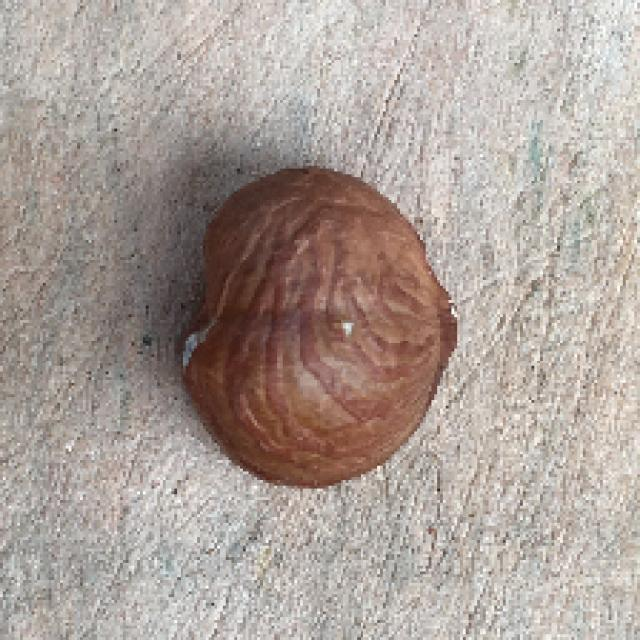hazelnut: (173, 159, 457, 489)
